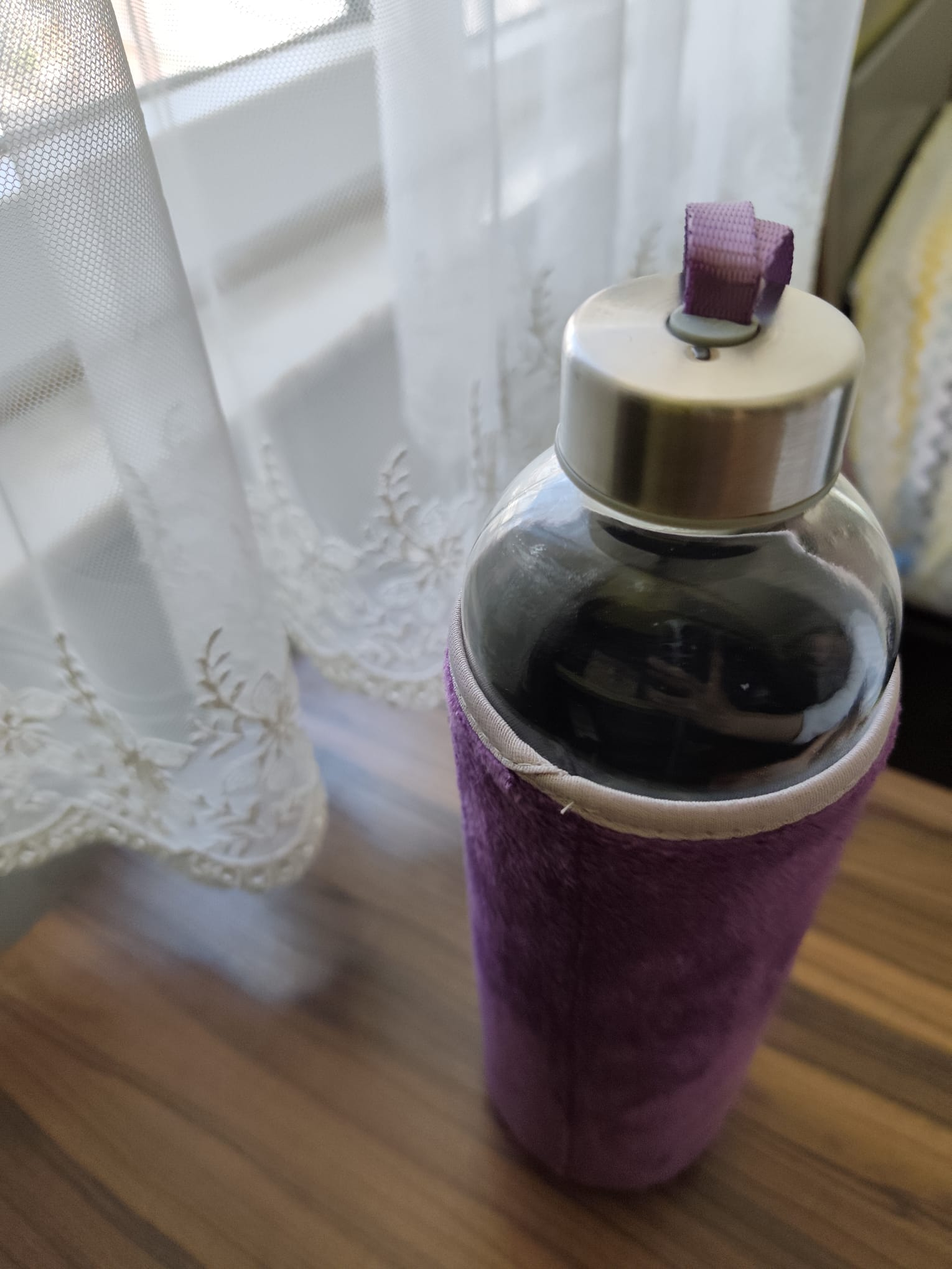su_sisesi: (426, 169, 917, 1223)
